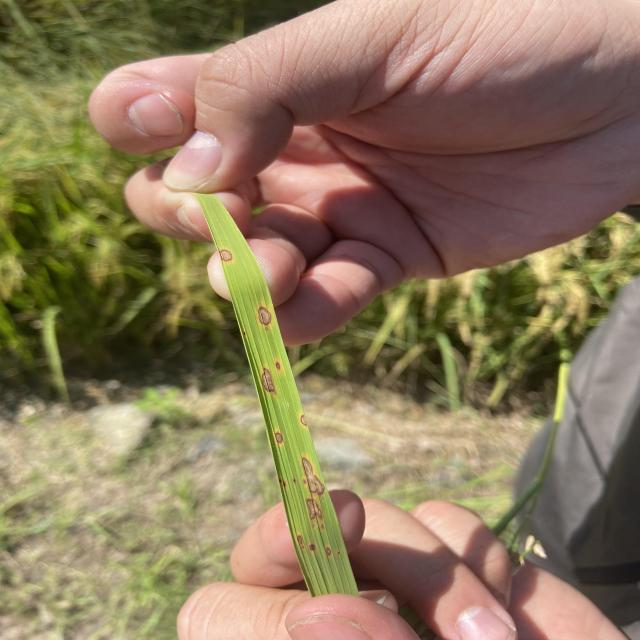Dao on: (302, 457, 325, 494), (306, 499, 323, 520), (262, 368, 275, 393), (258, 306, 271, 325), (220, 249, 232, 262), (276, 432, 283, 443), (301, 415, 307, 426), (326, 547, 332, 556), (297, 535, 303, 543), (309, 544, 316, 550), (321, 523, 325, 530), (276, 363, 280, 369), (303, 478, 307, 484), (301, 545, 305, 549)
